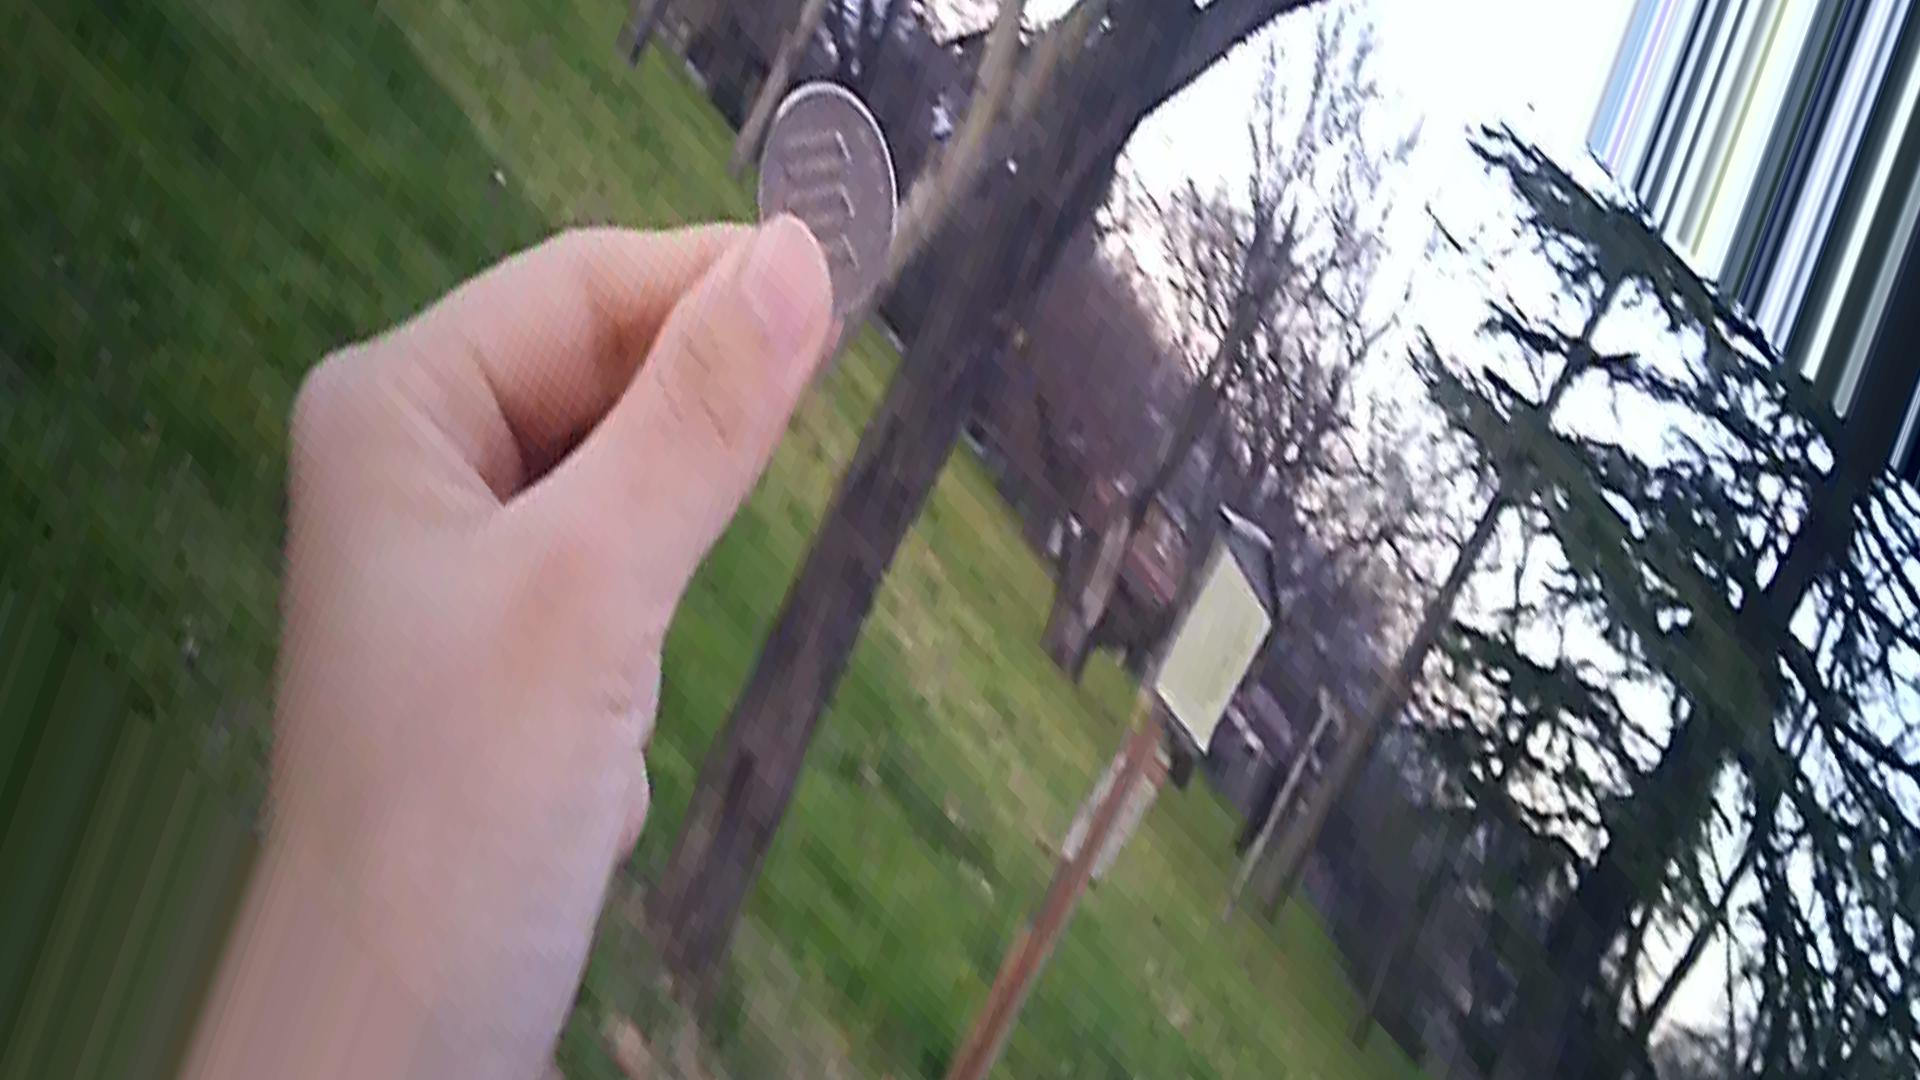100 Yen: (762, 75, 893, 309)
